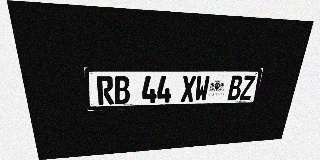4: (142, 76, 157, 103), (157, 76, 172, 103)
B: (113, 76, 130, 104), (227, 75, 243, 100)
R: (96, 76, 114, 105)
W: (194, 76, 210, 101)
X: (180, 76, 196, 102)
Z: (239, 75, 256, 100)
